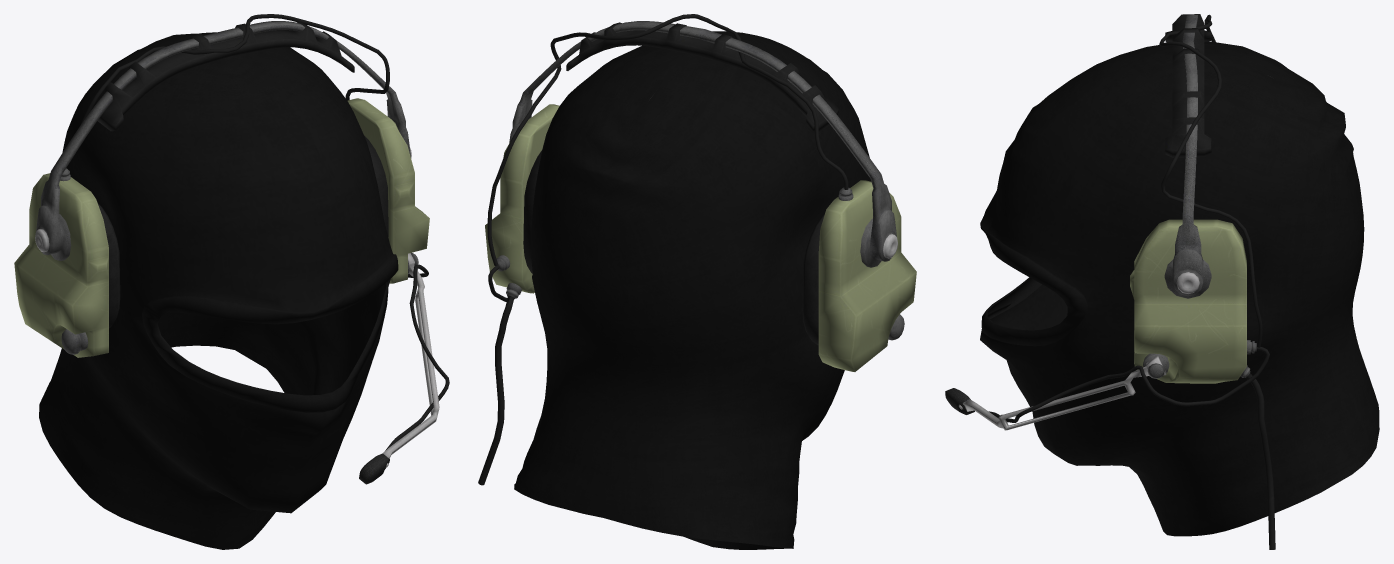
The model's file is military_balaclava_and_headset_remaster.glb.
The picture shows the model from 3 angles, left to right: view 1: azimuth 30°, elevation 25°; view 2: azimuth 150°, elevation 25°; view 3: azimuth 270°, elevation 25°; orthographic projection. The views are drawn at different scales.
Parts seen in each view (by area): view 1: balklava_low, headset_01_low001, headset_07_low001, headphone_low007, headset_03_low, headset_02_low, headset_05_low001; view 2: balklava_low, headset_01_low001, headset_07_low001, headphone_low007, headset_02_low, headset_04_low001, headset_05_low001; view 3: balklava_low, headset_01_low001, headset_07_low001, headphone_low007, headset_03_low, headset_04_low001, headset_05_low001.
Boxes of the visible parts, x1,y1,x2,y2 form: balklava_low: [39, 32, 398, 549]; headset_01_low001: [14, 21, 429, 357]; headset_07_low001: [35, 21, 411, 260]; headphone_low007: [80, 14, 449, 450]; headset_03_low: [359, 253, 439, 484]; headset_02_low: [97, 135, 388, 328]; headset_05_low001: [60, 168, 418, 354]; balklava_low: [514, 31, 871, 549]; headset_01_low001: [485, 22, 916, 371]; headset_07_low001: [509, 21, 897, 267]; headphone_low007: [487, 14, 848, 301]; headset_02_low: [523, 150, 824, 345]; headset_04_low001: [478, 295, 514, 485]; headset_05_low001: [495, 187, 904, 340]; balklava_low: [980, 41, 1379, 536]; headset_01_low001: [1130, 14, 1246, 383]; headset_07_low001: [1164, 14, 1211, 298]; headphone_low007: [989, 14, 1269, 422]; headset_03_low: [945, 356, 1166, 430]; headset_04_low001: [1246, 373, 1275, 549]; headset_05_low001: [1143, 340, 1256, 378].
Bounding box in the file's own units: 3.18 × 4.19 × 3.31.
2 materials, 2 textured.
